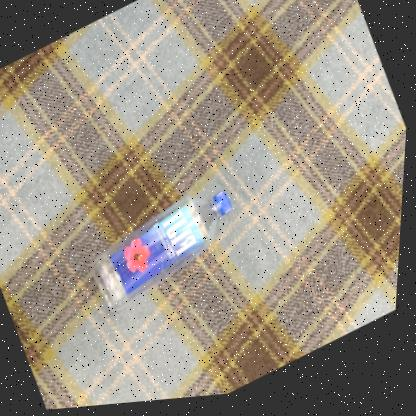Plastic: (93, 196, 233, 314)
